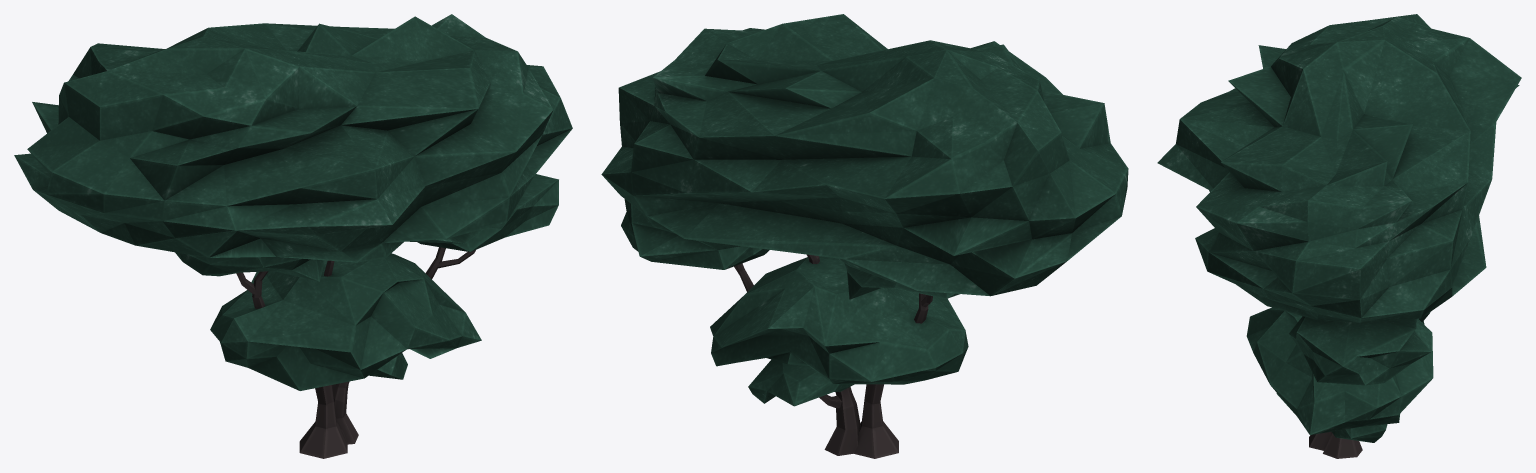
Rendered from MacassarTree.gltf.
3 views of the same model, side by side, from view 1: azimuth 30°, elevation 25°; view 2: azimuth 150°, elevation 25°; view 3: azimuth 270°, elevation 25° (orthographic). The views are drawn at different scales.
Parts seen in each view (by area): view 1: node-0; view 2: node-0; view 3: node-0.
Boxes of the visible parts, bbox=[...] form: node-0: bbox=[14, 14, 572, 458]; node-0: bbox=[601, 14, 1128, 458]; node-0: bbox=[1157, 14, 1521, 458].
Bounding box in the file's own units: 17.42 × 13.69 × 12.32.
Materials: 1 (1 with a texture image).
